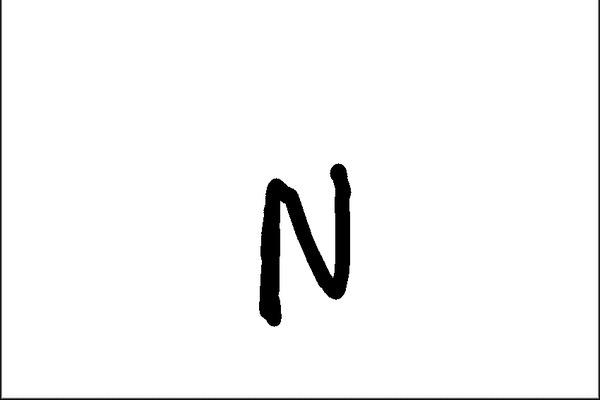N: (251, 159, 359, 335)
